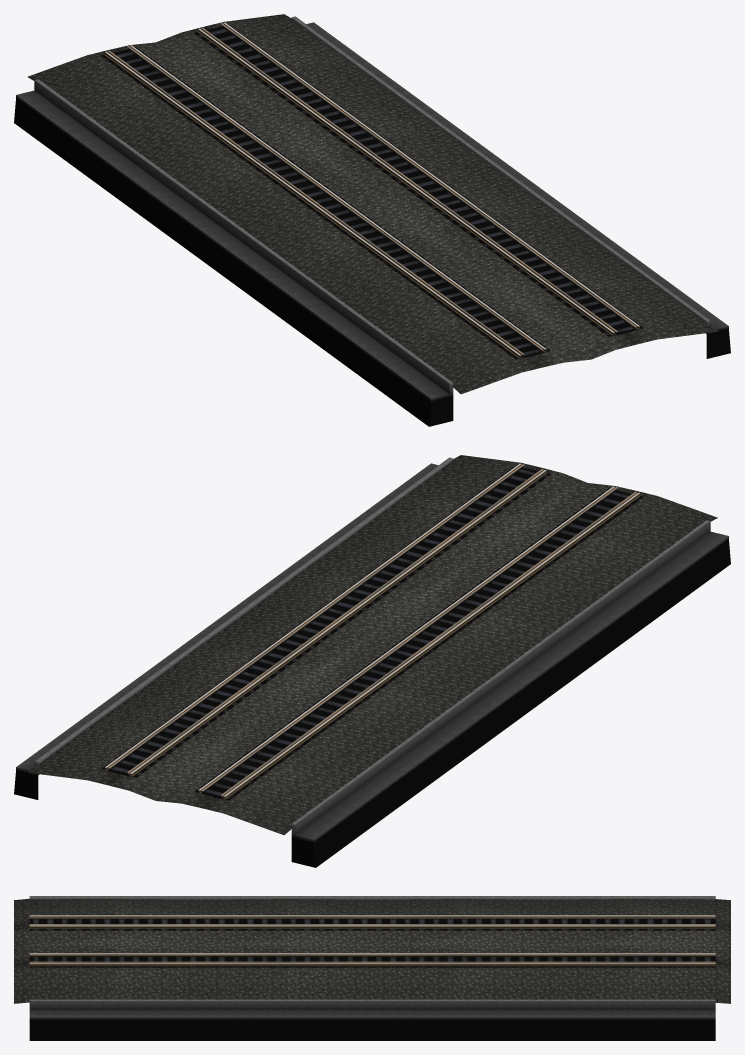
File: TOB_2RAIL_100.glb
3 renders of one model, top to bottom at view 1: azimuth 30°, elevation 25°; view 2: azimuth 150°, elevation 25°; view 3: azimuth 270°, elevation 25°, orthographic. The views are drawn at different scales.
Parts seen in each view (by area): view 1: LeftWall, R000_RG_R, R000_RG_L; view 2: LeftWall, R000_RG_R, R000_RG_L; view 3: LeftWall, R000_RG_L, R000_RG_R.
Boxes of the visible parts, x1=… form: LeftWall: x1=14, y1=14, x2=730, y2=426; R000_RG_R: x1=108, y1=27, x2=617, y2=356; R000_RG_L: x1=127, y1=23, x2=636, y2=350; LeftWall: x1=14, y1=455, x2=730, y2=867; R000_RG_R: x1=127, y1=469, x2=636, y2=797; R000_RG_L: x1=108, y1=464, x2=617, y2=792; LeftWall: x1=14, y1=896, x2=730, y2=1040; R000_RG_L: x1=29, y1=924, x2=715, y2=963; R000_RG_R: x1=29, y1=916, x2=715, y2=955.
Bounding box in the file's own units: 42 × 6.55 × 105.
Materials: 7 (6 with a texture image).
